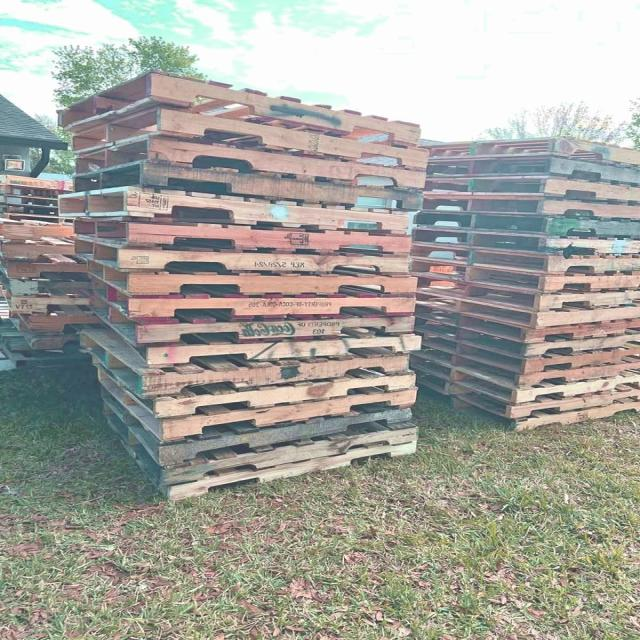non-igps: (52, 67, 429, 160), (65, 99, 438, 182), (95, 396, 423, 490), (97, 380, 417, 470), (77, 322, 416, 406), (92, 363, 422, 446), (70, 126, 433, 199), (83, 344, 420, 422), (66, 156, 431, 220), (51, 178, 416, 242), (84, 286, 420, 348), (66, 209, 418, 263), (160, 437, 425, 507), (68, 227, 418, 277), (85, 272, 419, 324), (80, 252, 425, 302), (120, 328, 426, 371), (400, 268, 639, 317), (404, 284, 640, 332), (404, 252, 640, 298), (403, 131, 640, 174), (410, 150, 640, 193), (405, 238, 640, 280), (402, 224, 640, 262), (405, 206, 640, 243), (419, 170, 640, 208), (416, 192, 640, 224)
